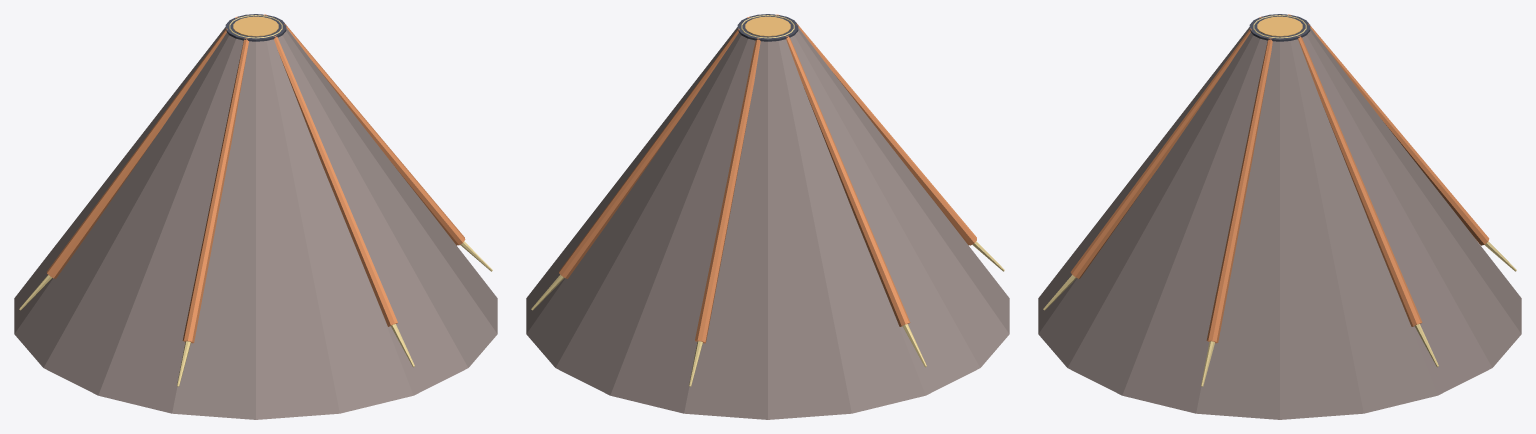
Rendered from volcan_mayor.glb.
3 renders of one model, left to right at view 1: azimuth 30°, elevation 25°; view 2: azimuth 150°, elevation 25°; view 3: azimuth 270°, elevation 25°, orthographic.
Parts seen in each view (by area): view 1: volcan_mayor; view 2: volcan_mayor; view 3: volcan_mayor.
Part boxes in pixels (x1,y1,x2,y2): volcan_mayor: (14, 14, 497, 419); volcan_mayor: (526, 14, 1009, 419); volcan_mayor: (1038, 14, 1521, 419).
Bounding box in the file's own units: 40 × 26.08 × 39.39.
